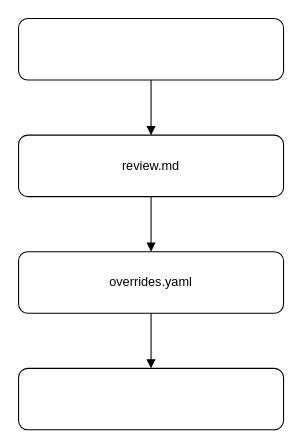
Image size: 302x448. Some labels were removed from this diagram. Each missing label, with the centre of its shape:
alignment.json: the point at 150,48
reviewed.json: the point at 150,398
